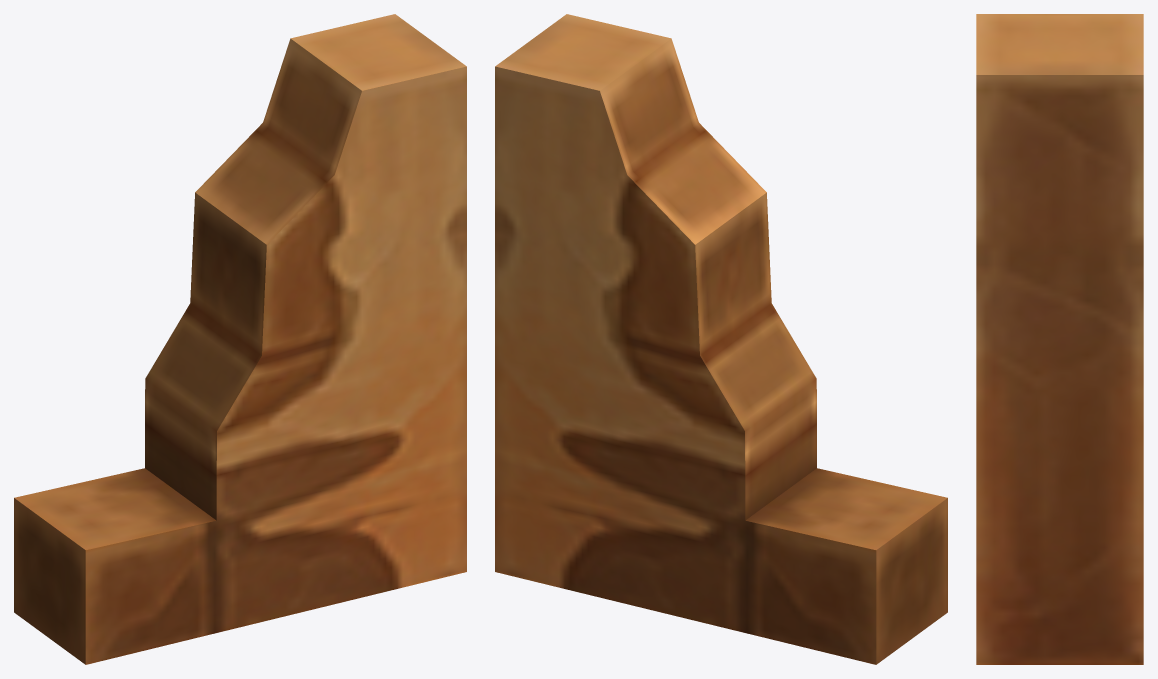
File: Stage_ShaMo_QiangJiao.FBX
3 renders of one model, left to right at view 1: azimuth 30°, elevation 25°; view 2: azimuth 150°, elevation 25°; view 3: azimuth 270°, elevation 25°, orthographic. The views are drawn at different scales.
Visible parts, largest first — view 1: Stage_ShaMo_QiangJiao; view 2: Stage_ShaMo_QiangJiao; view 3: Stage_ShaMo_QiangJiao.
Part boxes in pixels (left/top/right/bottom): Stage_ShaMo_QiangJiao: left=14, top=14, right=466, bottom=664; Stage_ShaMo_QiangJiao: left=495, top=14, right=947, bottom=664; Stage_ShaMo_QiangJiao: left=976, top=14, right=1143, bottom=664.
Size of the model in its own units: 134 by 170 by 43.57.
